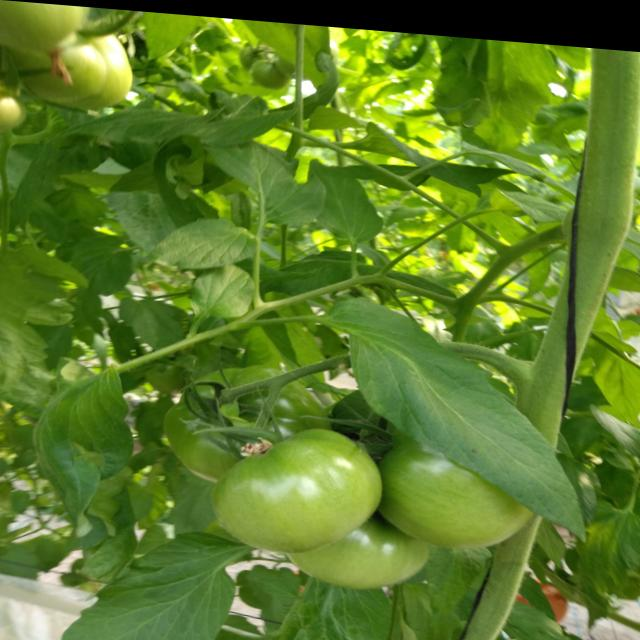yesil: (189, 339, 525, 589)
